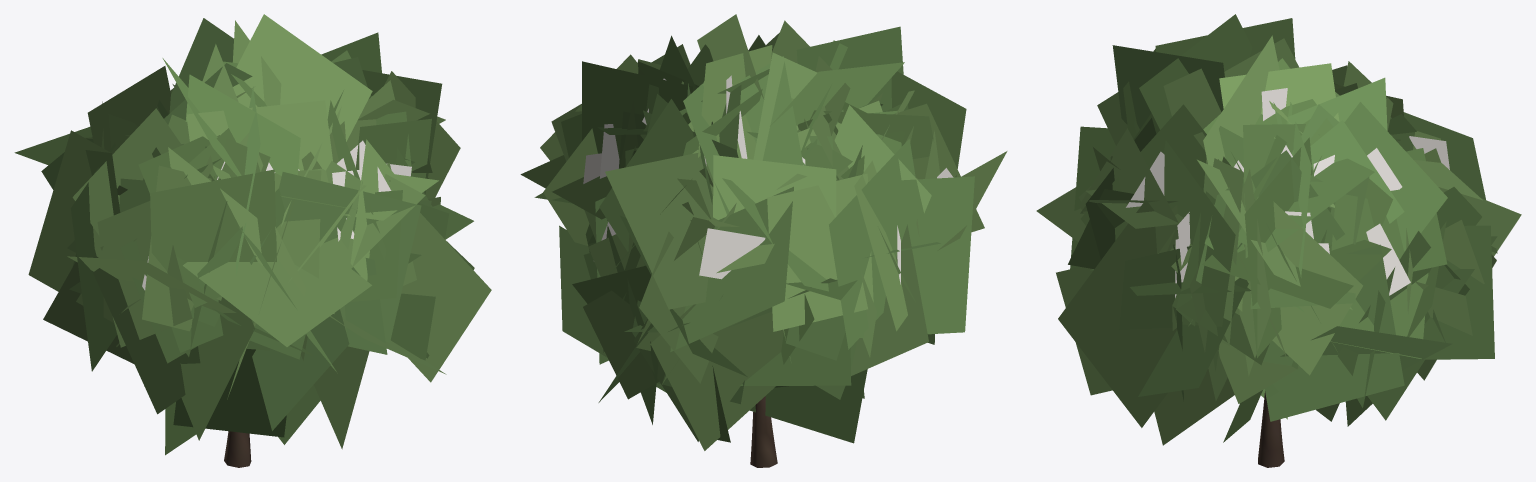
The model's file is chestnut_lod1.glb.
The picture shows the model from 3 angles, left to right: view 1: azimuth 30°, elevation 25°; view 2: azimuth 150°, elevation 25°; view 3: azimuth 270°, elevation 25°; orthographic projection.
Visible parts, largest first — view 1: chestnut_lod1; view 2: chestnut_lod1; view 3: chestnut_lod1.
Boxes of the visible parts, left/top/right/bottom form: chestnut_lod1: left=14, top=14, right=491, bottom=467; chestnut_lod1: left=520, top=14, right=1007, bottom=467; chestnut_lod1: left=1036, top=14, right=1521, bottom=467.
Size of the model in its own units: 0.9743 by 1 by 1.
